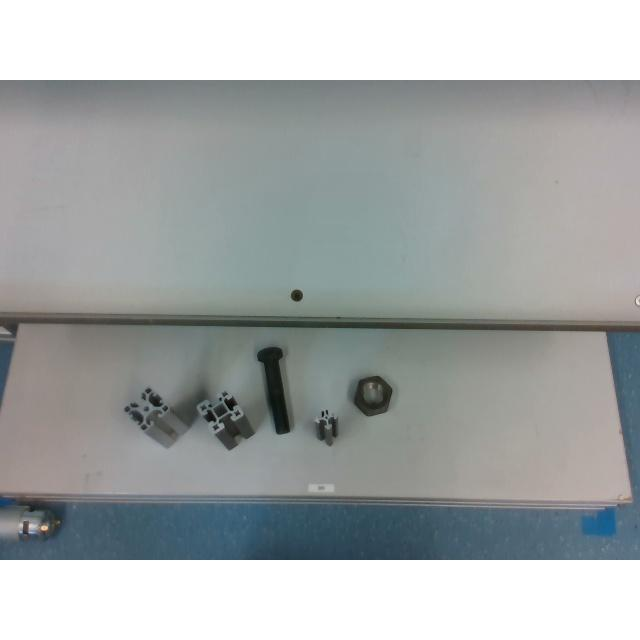F20_20_B: (314, 409, 338, 445)
M20_100: (258, 346, 290, 434)
M30: (354, 376, 391, 416)
S40_40_B: (197, 391, 253, 449)
S40_40_G: (124, 386, 188, 446)
